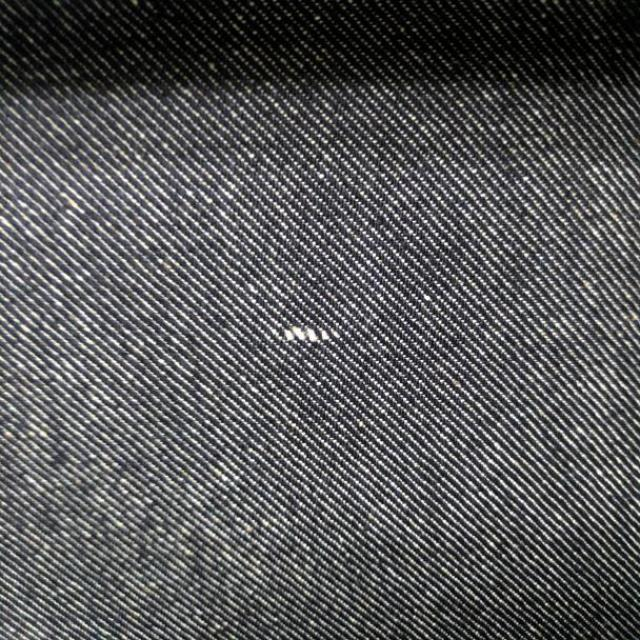Knot: (283, 326, 340, 343)
